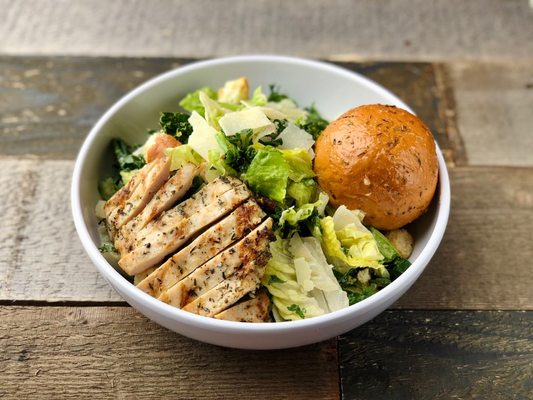sushi: (35, 55, 510, 397), (88, 73, 453, 351)
